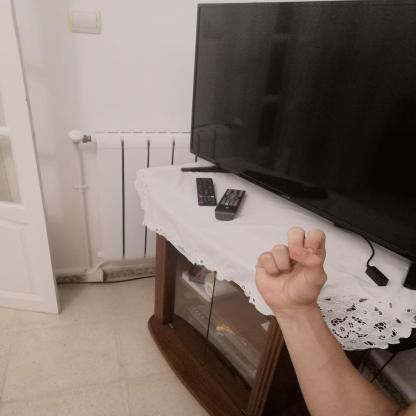QAAF: (244, 220, 338, 314)
